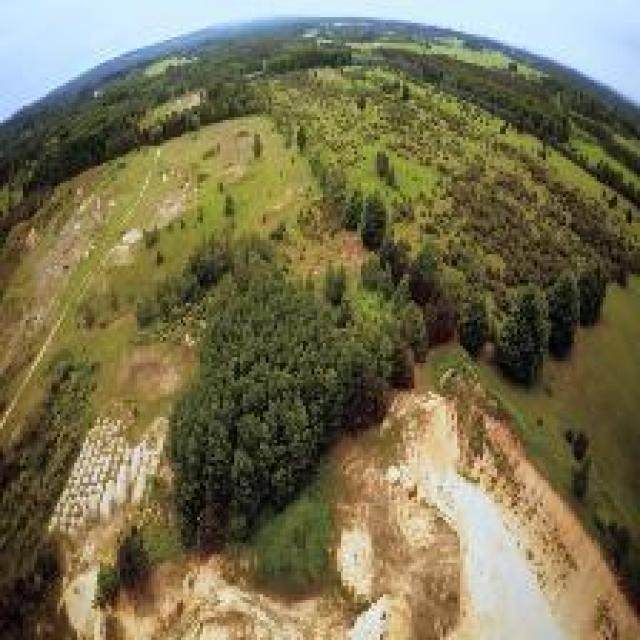other: (350, 423, 596, 626)
